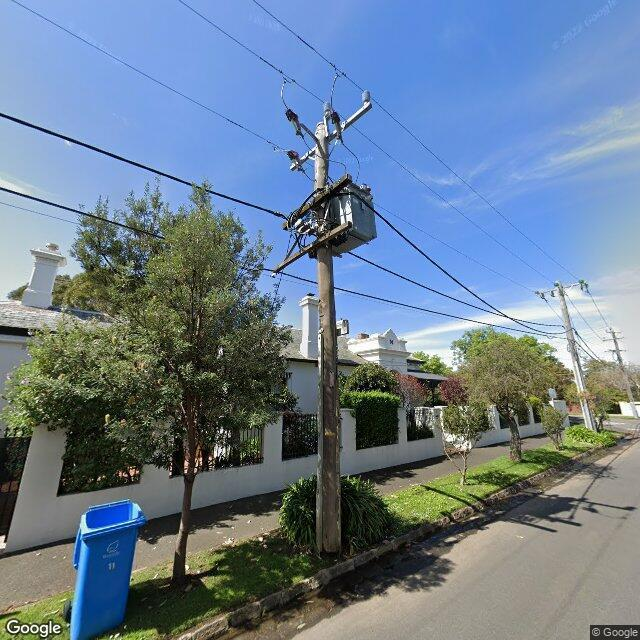HV-transmission: (286, 90, 370, 162), (535, 280, 591, 303)
crossarm: (290, 102, 372, 172), (272, 221, 352, 273), (282, 173, 352, 230), (538, 281, 586, 294), (300, 123, 318, 142), (602, 337, 624, 341), (604, 349, 627, 352), (606, 332, 621, 333)
timber-pole: (315, 122, 340, 554), (558, 283, 596, 432), (610, 328, 638, 418)
transformer: (329, 182, 377, 256)
